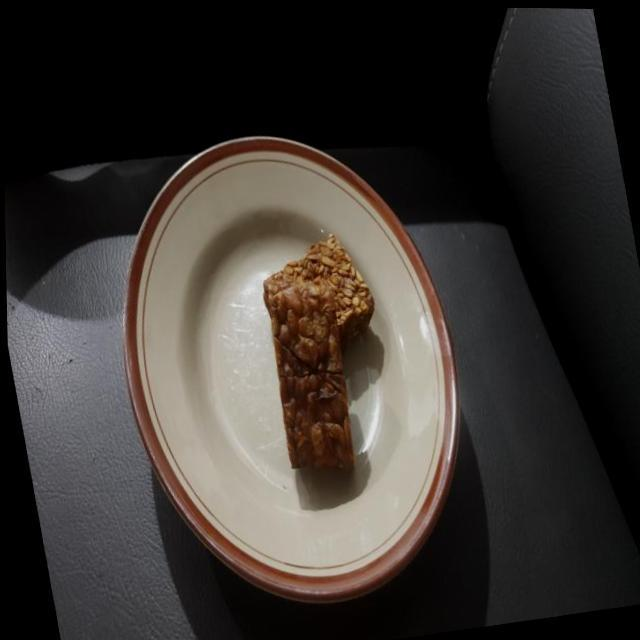tempe_goreng: (268, 282, 354, 469), (264, 234, 374, 352)
